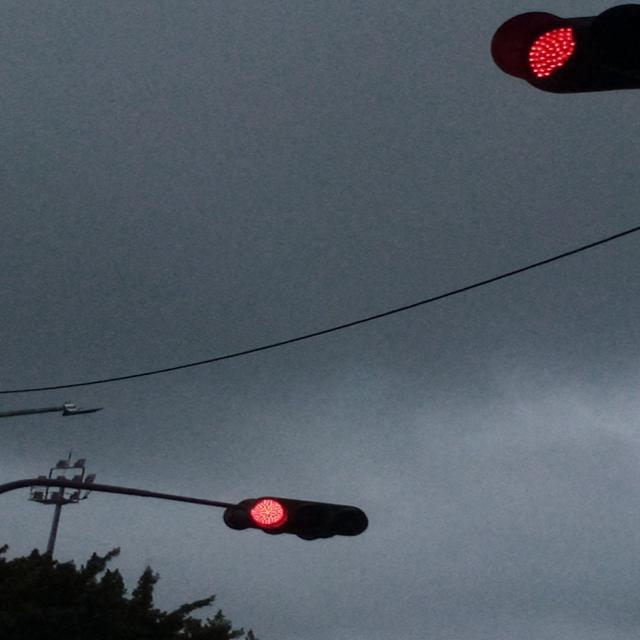red light: (488, 8, 632, 92), (226, 498, 372, 543)
